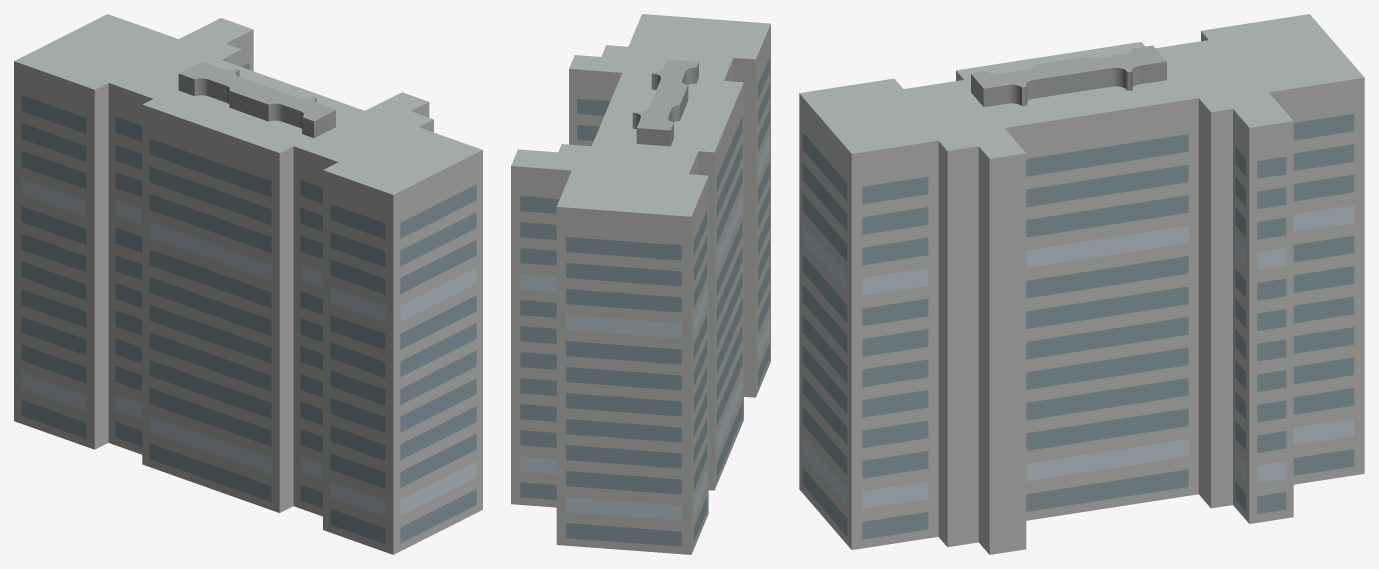
Rendered from fallback-mapo-raemian-prugio-211.glb.
3 renders of one model, left to right at view 1: azimuth 30°, elevation 25°; view 2: azimuth 150°, elevation 25°; view 3: azimuth 270°, elevation 25°, orthographic. The views are drawn at different scales.
Parts seen in each view (by area): view 1: fallback-mapo-raemian-prugio-211; view 2: fallback-mapo-raemian-prugio-211; view 3: fallback-mapo-raemian-prugio-211.
Part boxes in pixels (box(x1,y1,x2,y2)): fallback-mapo-raemian-prugio-211: box(14, 14, 482, 554); fallback-mapo-raemian-prugio-211: box(511, 14, 770, 554); fallback-mapo-raemian-prugio-211: box(799, 14, 1364, 554).
Bounding box in the file's own units: 25.46 × 34 × 42.
